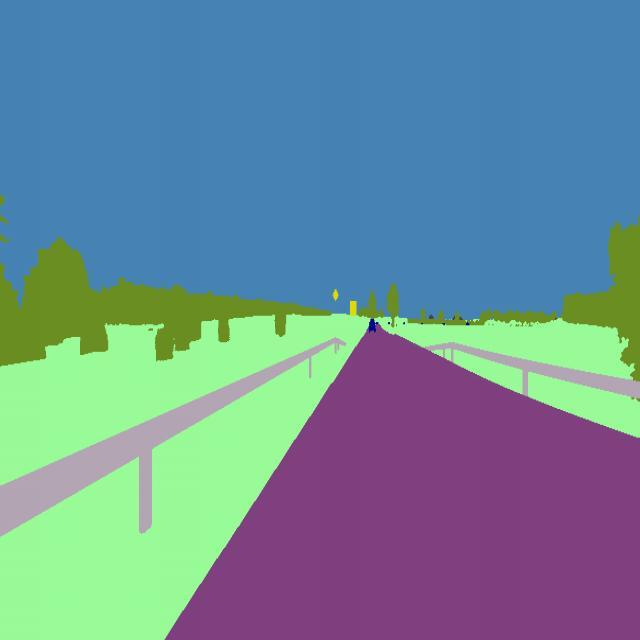safe: (366, 314, 378, 336)
